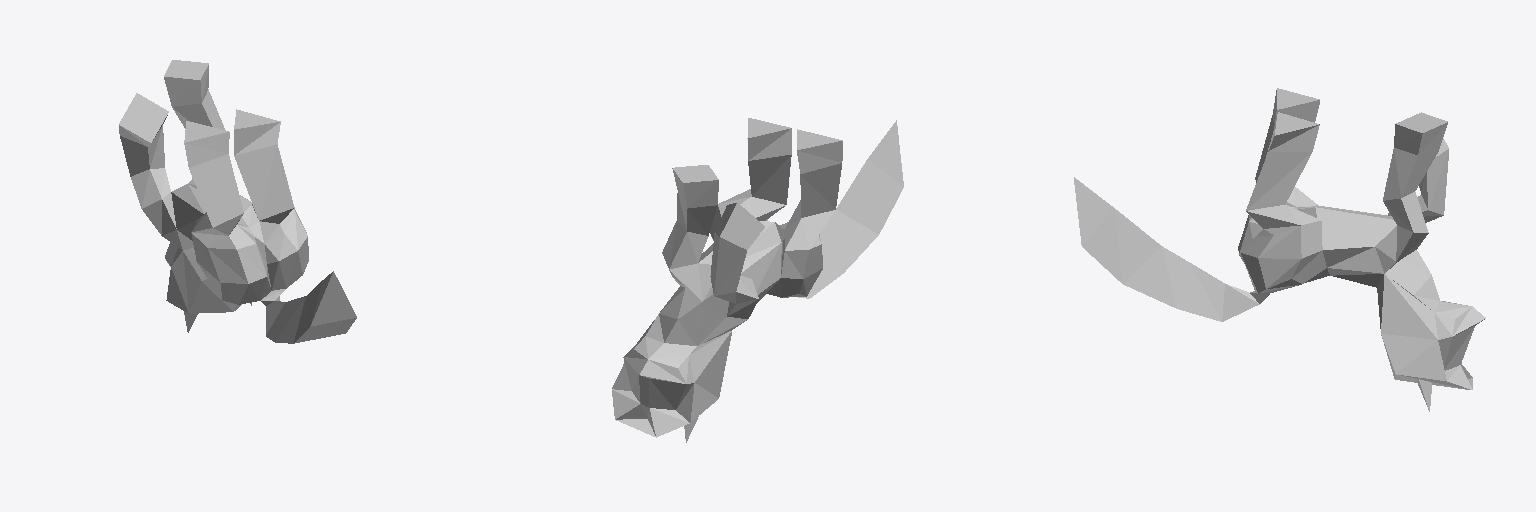
The model's file is PONY_000007.obj.
The picture shows the model from 3 angles: view 1: azimuth 30°, elevation 25°; view 2: azimuth 150°, elevation 25°; view 3: azimuth 270°, elevation 25°; orthographic projection.
Visible parts, largest first — view 1: pony; view 2: pony; view 3: pony.
Part boxes in pixels (x1,y1,x2,y2): pony: (119, 60, 356, 343); pony: (612, 118, 903, 442); pony: (1074, 88, 1485, 411).
Size of the model in its own units: 4.72 by 8.26 by 11.49.